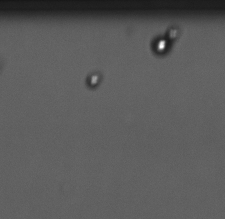Living Cell: (151, 37, 171, 57), (85, 70, 103, 90)
